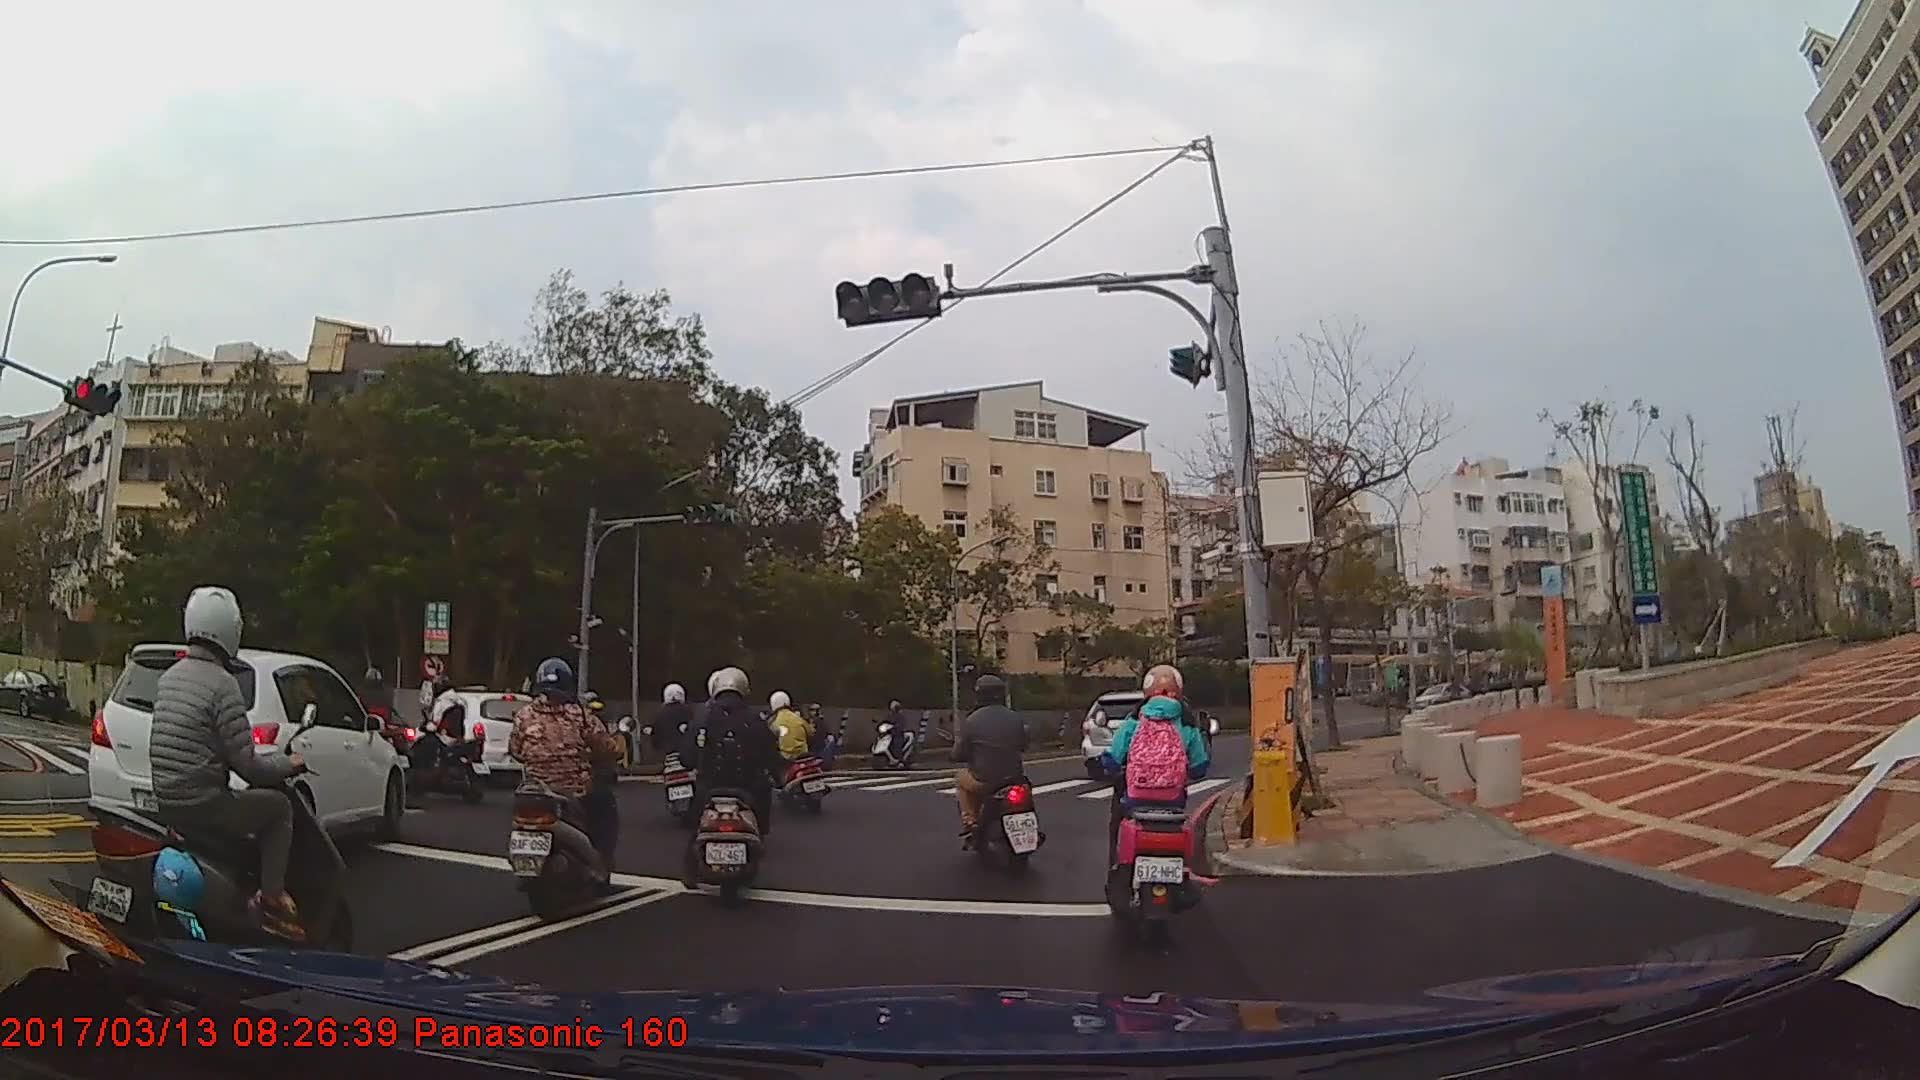rider: (78, 587, 359, 988), (507, 657, 629, 922), (1104, 660, 1213, 930), (683, 665, 779, 907), (949, 673, 1042, 874), (640, 681, 713, 828), (759, 690, 835, 819), (347, 663, 414, 795), (409, 671, 473, 786), (869, 700, 919, 766), (794, 703, 835, 764)
vehicle: (87, 641, 402, 863), (409, 686, 542, 784), (1079, 686, 1208, 775), (0, 663, 66, 719)
